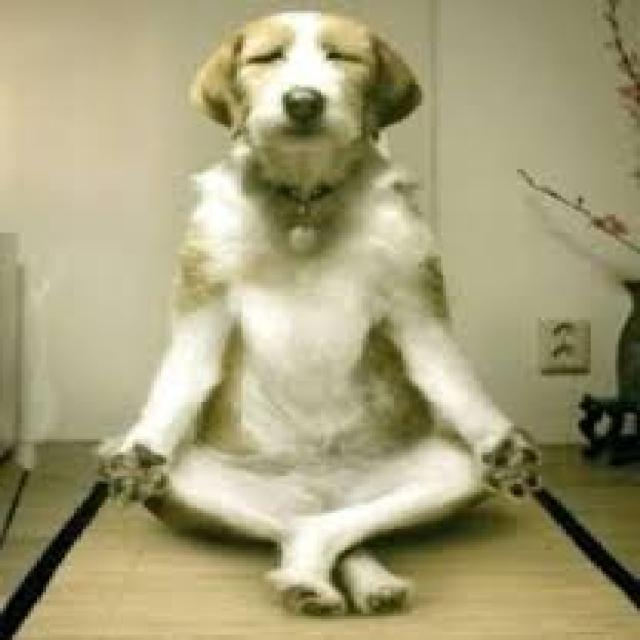dog: (93, 4, 555, 624)
